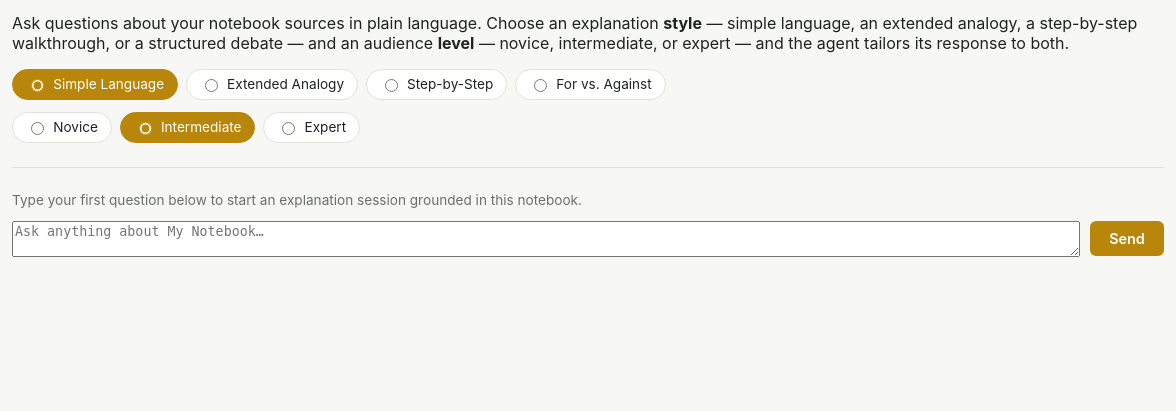
Test: ExplainTab › shows a failure status when the job ends in error
Expected: the text "Type your first question" is shown, [12,192,582,208]
Type "What is X?" into the text box named "Message" at (546, 239), box [12,221,1080,257]
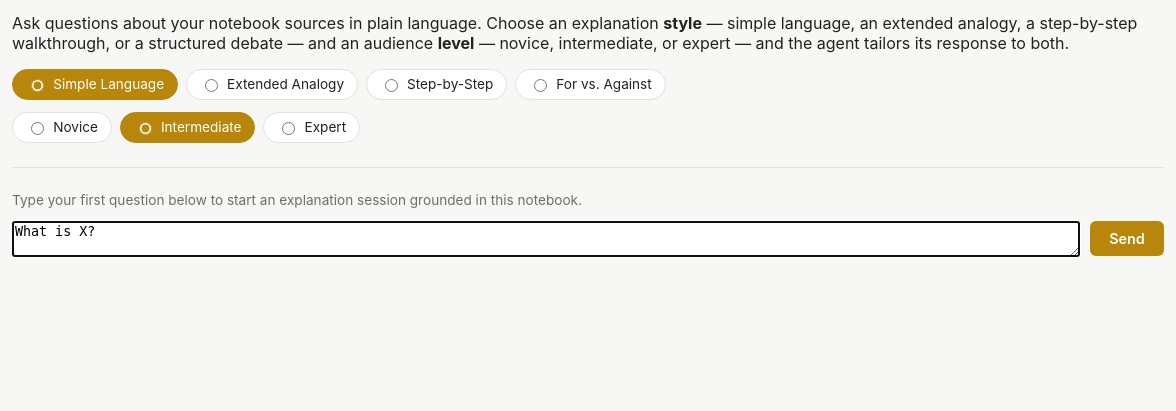
Click the button "Send" at (1127, 238), box [1090,221,1164,256]
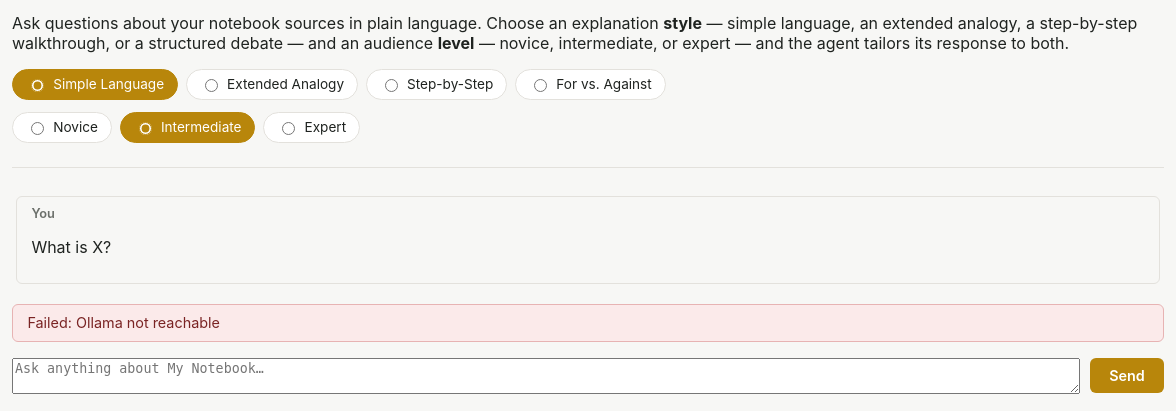
Now the text "Failed: Ollama not reachable" is shown, box [27,314,220,331]
